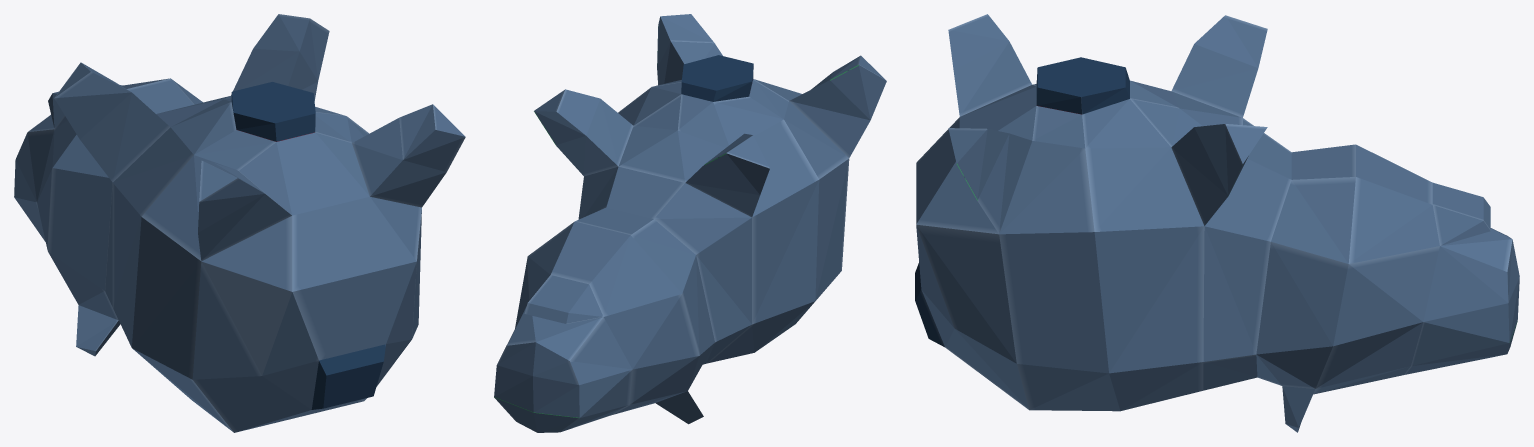
The model's file is HAMM.obj.
3 views of the same model, side by side, from view 1: azimuth 30°, elevation 25°; view 2: azimuth 150°, elevation 25°; view 3: azimuth 270°, elevation 25° (orthographic). The views are drawn at different scales.
Visible parts, largest first — view 1: HAMM_node00_face01, HAMM_node03_face01, HAMM_node00_face00, HAMM_node11_face03, HAMM_node11_face01, HAMM_node11_face04, HAMM_node02_face01, HAMM_node04_face01, HAMM_node11_face02, HAMM_node01_face01, HAMM_node05_face01, HAMM_node05_face00 (+1 smaller); view 2: HAMM_node03_face01, HAMM_node00_face01, HAMM_node11_face00, HAMM_node11_face04, HAMM_node11_face02, HAMM_node03_face00, HAMM_node01_face01, HAMM_node05_face01, HAMM_node11_face01, HAMM_node02_face01, HAMM_node11_face03, HAMM_node04_face01 (+1 smaller); view 3: HAMM_node00_face01, HAMM_node03_face01, HAMM_node11_face00, HAMM_node11_face01, HAMM_node00_face00, HAMM_node11_face04, HAMM_node11_face02, HAMM_node11_face03, HAMM_node02_face01, HAMM_node03_face00, HAMM_node05_face01, HAMM_node01_face01 (+3 smaller).
Boxes of the visible parts, left/top/right/bottom form: HAMM_node00_face01: left=112, top=82, right=421, bottom=432; HAMM_node03_face01: left=14, top=78, right=202, bottom=355; HAMM_node00_face00: left=201, top=133, right=421, bottom=291; HAMM_node11_face03: left=352, top=118, right=446, bottom=207; HAMM_node11_face01: left=80, top=93, right=170, bottom=182; HAMM_node11_face04: left=198, top=163, right=291, bottom=261; HAMM_node02_face01: left=54, top=62, right=131, bottom=139; HAMM_node04_face01: left=399, top=104, right=465, bottom=172; HAMM_node11_face02: left=231, top=48, right=317, bottom=100; HAMM_node01_face01: left=253, top=14, right=329, bottom=80; HAMM_node05_face01: left=198, top=160, right=264, bottom=232; HAMM_node05_face00: left=199, top=161, right=237, bottom=201; HAMM_node03_face01: left=494, top=207, right=714, bottom=432; HAMM_node00_face01: left=618, top=55, right=849, bottom=363; HAMM_node11_face00: left=578, top=166, right=751, bottom=364; HAMM_node11_face04: left=789, top=72, right=870, bottom=157; HAMM_node11_face02: left=556, top=99, right=633, bottom=176; HAMM_node03_face00: left=507, top=306, right=603, bottom=360; HAMM_node01_face01: left=534, top=89, right=600, bottom=144; HAMM_node05_face01: left=830, top=55, right=886, bottom=119; HAMM_node11_face01: left=685, top=165, right=759, bottom=217; HAMM_node02_face01: left=704, top=133, right=769, bottom=194; HAMM_node11_face03: left=657, top=41, right=722, bottom=85; HAMM_node04_face01: left=657, top=14, right=714, bottom=67; HAMM_node00_face01: left=915, top=57, right=1242, bottom=411; HAMM_node03_face01: left=1256, top=144, right=1519, bottom=430; HAMM_node11_face00: left=1203, top=118, right=1291, bottom=390; HAMM_node11_face01: left=1171, top=44, right=1258, bottom=117; HAMM_node00_face00: left=916, top=84, right=1036, bottom=234; HAMM_node11_face04: left=953, top=41, right=1031, bottom=116; HAMM_node11_face02: left=1171, top=127, right=1228, bottom=225; HAMM_node11_face03: left=977, top=133, right=1031, bottom=233; HAMM_node02_face01: left=1194, top=15, right=1267, bottom=67; HAMM_node03_face00: left=1256, top=228, right=1512, bottom=432; HAMM_node05_face01: left=948, top=14, right=1009, bottom=69; HAMM_node01_face01: left=1194, top=124, right=1248, bottom=195.
Size of the model in its own units: 312 by 347 by 583.
